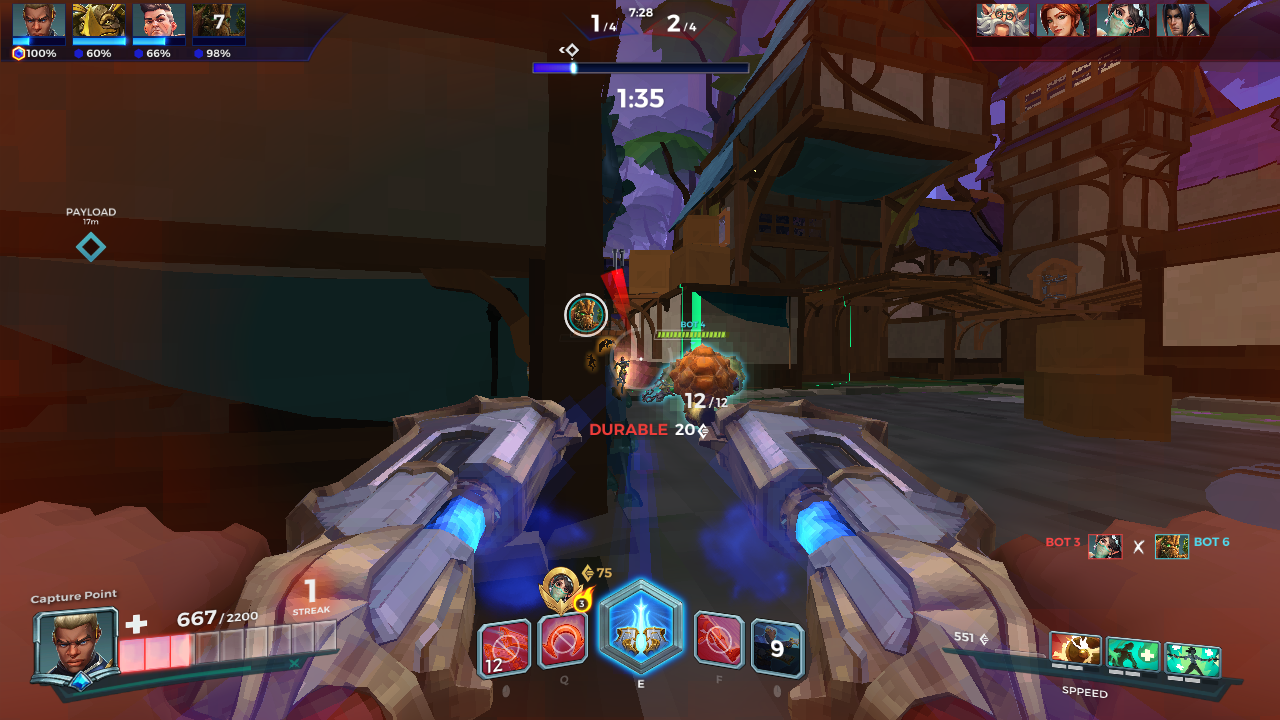model: (610, 348, 633, 391)
